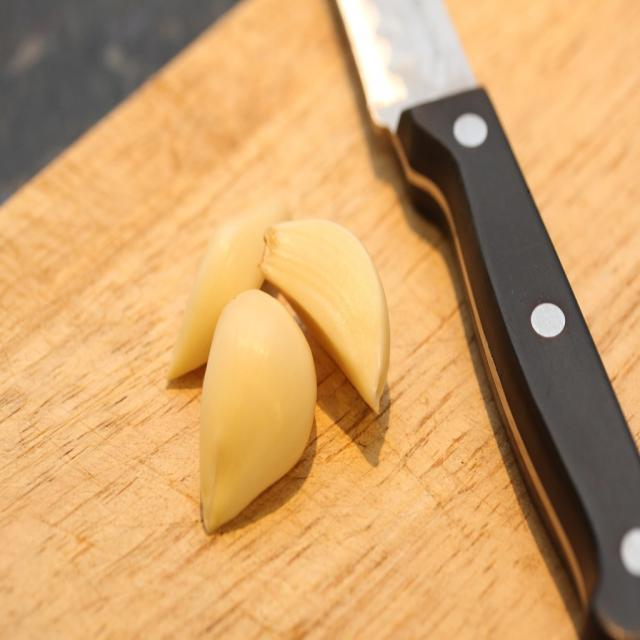Knife: (338, 0, 640, 640)
